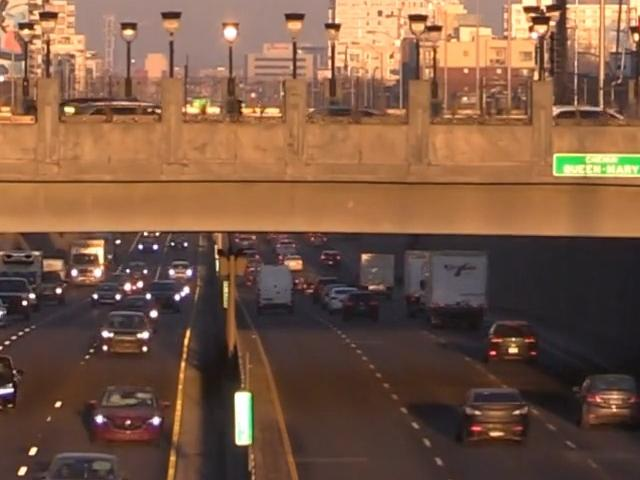car: (89, 388, 170, 450), (456, 386, 529, 446), (574, 370, 640, 431), (484, 316, 543, 368), (37, 450, 131, 480), (98, 311, 154, 358), (0, 275, 37, 316), (0, 351, 25, 411), (0, 294, 10, 326)
truck: (407, 249, 484, 327)
